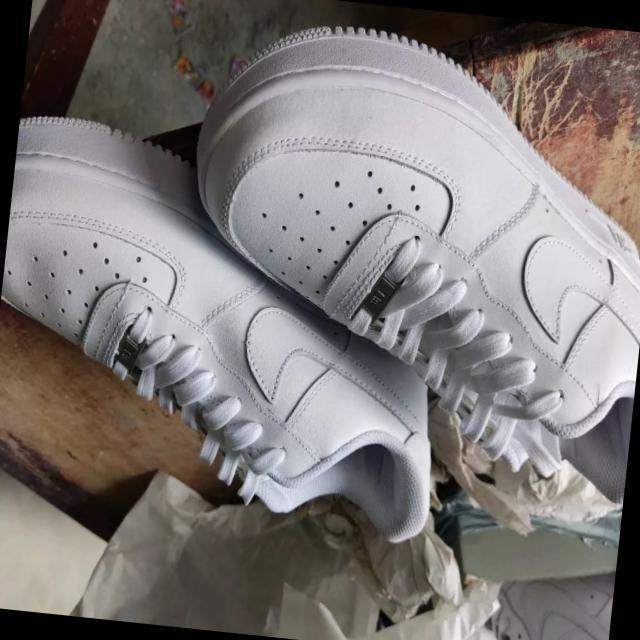nike fake air force: (166, 9, 640, 503), (0, 109, 470, 546)
